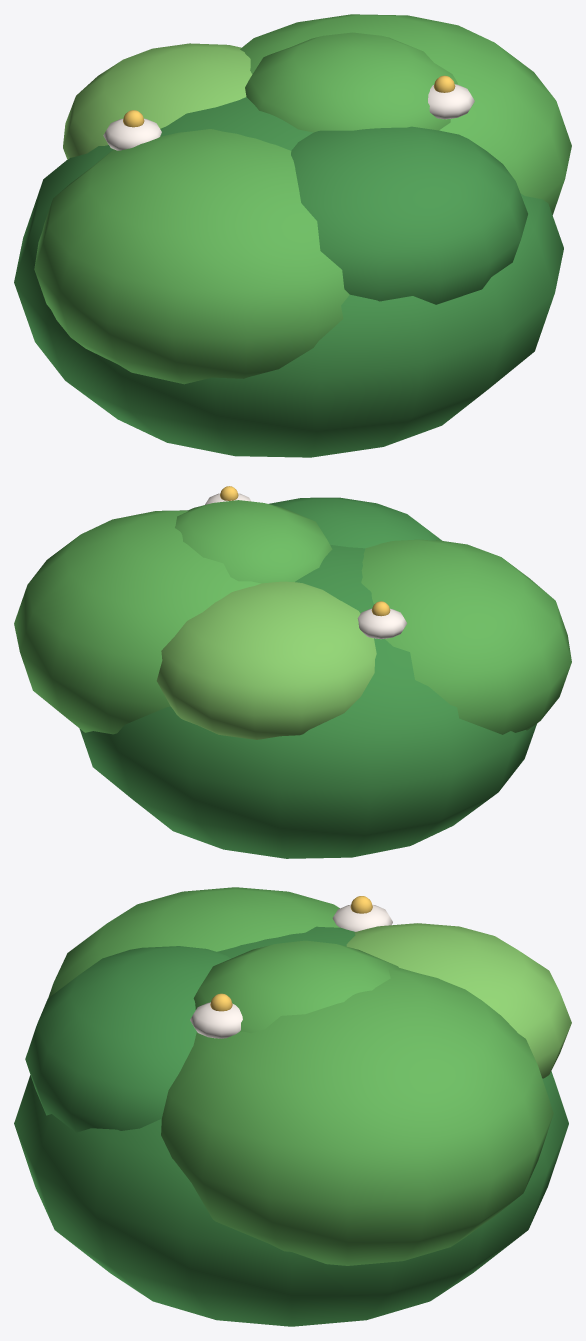
The model's file is bush.glb.
3 renders of one model, top to bottom at view 1: azimuth 30°, elevation 25°; view 2: azimuth 150°, elevation 25°; view 3: azimuth 270°, elevation 25°, orthographic. The views are drawn at different scales.
Parts seen in each view (by area): view 1: bush; view 2: bush; view 3: bush.
Boxes of the visible parts, x1,y1,x2,y2 form: bush: (14, 14, 571, 457); bush: (14, 486, 571, 858); bush: (14, 887, 571, 1326).
Size of the model in its own units: 0.9288 by 0.5752 by 0.796.
